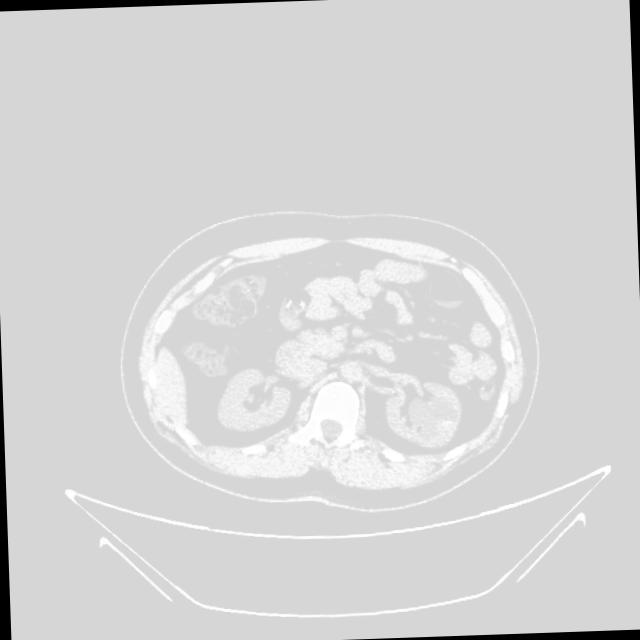cysts: (194, 241, 485, 466)
